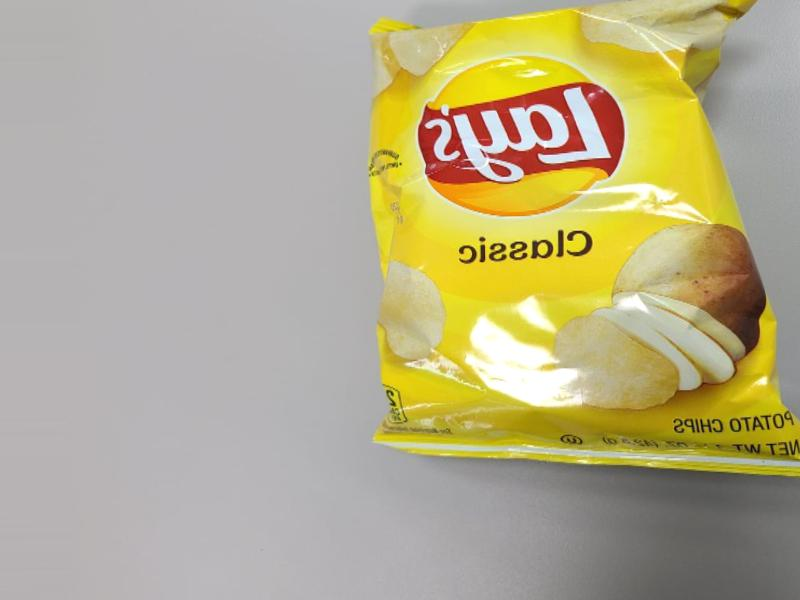lays: (434, 0, 723, 500)
